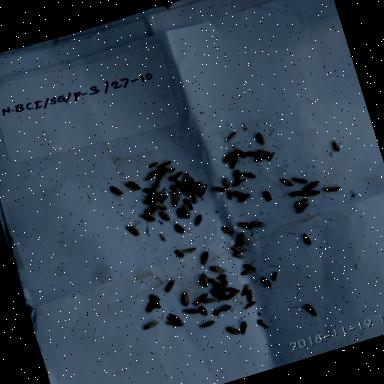pbw: (136, 316, 162, 334), (140, 294, 162, 314), (139, 182, 161, 201), (124, 219, 144, 238), (233, 318, 251, 338), (240, 145, 264, 160), (235, 217, 255, 235), (196, 250, 214, 270), (108, 180, 126, 200), (210, 301, 232, 317), (300, 226, 316, 248), (210, 180, 232, 196), (123, 176, 142, 194), (248, 214, 268, 231), (299, 184, 320, 200), (320, 180, 342, 195), (252, 314, 270, 332), (303, 299, 320, 318), (220, 286, 243, 300), (208, 260, 228, 276), (154, 162, 176, 176), (222, 322, 240, 339), (164, 309, 182, 326), (184, 174, 201, 192), (170, 220, 188, 237), (290, 172, 309, 188), (178, 201, 194, 220), (197, 316, 218, 330), (173, 174, 190, 191), (232, 228, 249, 245), (196, 272, 212, 290), (242, 286, 258, 304), (166, 168, 184, 184), (138, 208, 156, 224), (178, 290, 194, 308), (292, 201, 314, 214), (191, 291, 211, 305), (164, 316, 184, 330), (288, 186, 309, 199), (149, 193, 170, 206), (301, 179, 322, 192), (162, 278, 179, 294), (194, 181, 212, 196), (235, 282, 254, 296), (181, 304, 200, 318), (169, 191, 185, 207), (258, 274, 274, 290), (190, 212, 206, 228), (234, 145, 250, 161), (225, 154, 241, 170), (219, 222, 236, 237), (179, 195, 194, 212), (157, 206, 172, 223), (231, 186, 249, 200), (239, 168, 257, 182), (142, 168, 160, 182), (331, 138, 346, 154), (178, 244, 198, 256), (278, 174, 294, 189), (187, 189, 202, 205), (220, 150, 237, 164), (197, 274, 216, 286), (143, 190, 162, 202), (252, 150, 271, 162), (238, 266, 257, 278), (212, 276, 226, 292), (210, 286, 224, 302), (242, 259, 258, 273), (196, 302, 210, 318), (152, 198, 168, 212), (218, 271, 232, 287), (150, 178, 166, 192), (201, 294, 219, 306), (292, 196, 310, 208), (254, 130, 267, 146), (255, 146, 272, 158), (172, 246, 186, 260), (156, 188, 170, 202), (260, 188, 273, 203), (231, 168, 244, 183), (242, 298, 258, 310), (221, 173, 233, 189), (235, 192, 252, 203), (173, 206, 187, 219), (232, 248, 246, 261), (186, 180, 204, 190), (216, 284, 227, 300), (156, 157, 172, 168), (231, 176, 248, 186), (230, 243, 243, 256), (180, 170, 192, 184), (181, 184, 196, 195), (225, 130, 238, 142), (269, 270, 281, 282), (155, 170, 168, 181), (222, 284, 236, 294), (146, 159, 160, 169), (224, 188, 234, 201), (266, 150, 277, 160)
